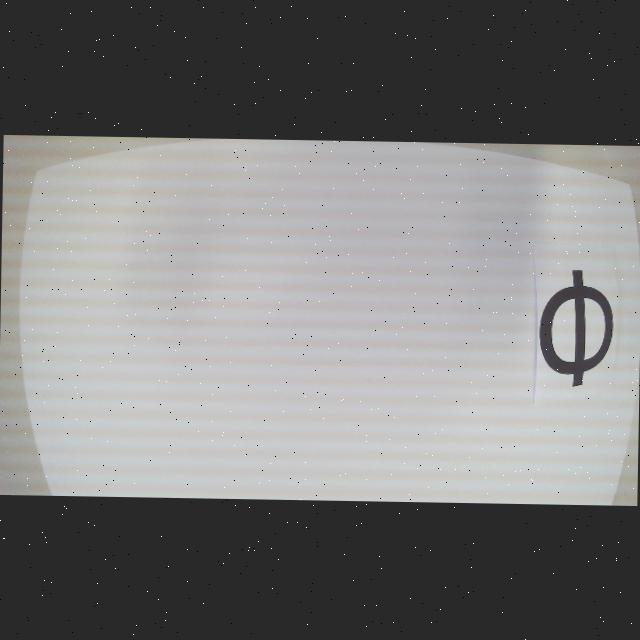PHI: (539, 269, 615, 388)
